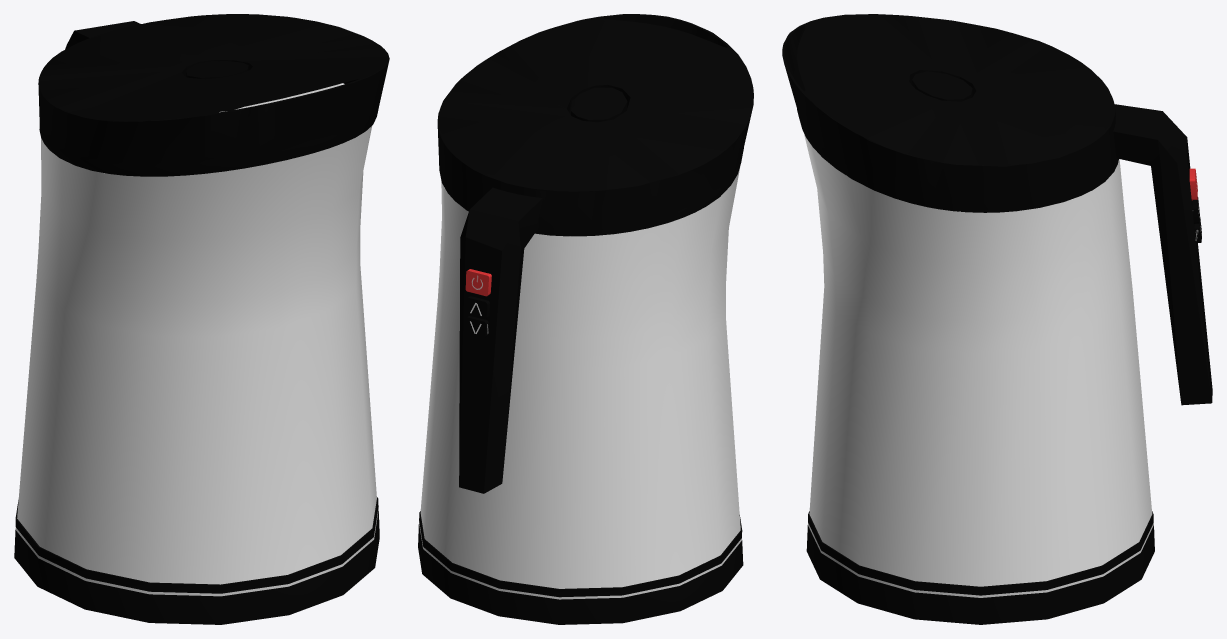
File: coffee pot.fbx
3 renders of one model, left to right at view 1: azimuth 30°, elevation 25°; view 2: azimuth 150°, elevation 25°; view 3: azimuth 270°, elevation 25°, orthographic. The views are drawn at different scales.
Parts seen in each view (by area): view 1: Coffee pot; view 2: Coffee pot; view 3: Coffee pot.
Part boxes in pixels (<box>): Coffee pot: <box>14,14,389,624</box>; Coffee pot: <box>418,14,753,624</box>; Coffee pot: <box>782,14,1212,624</box>.
Bounding box in the file's own units: 17.15 × 27.09 × 21.19.
